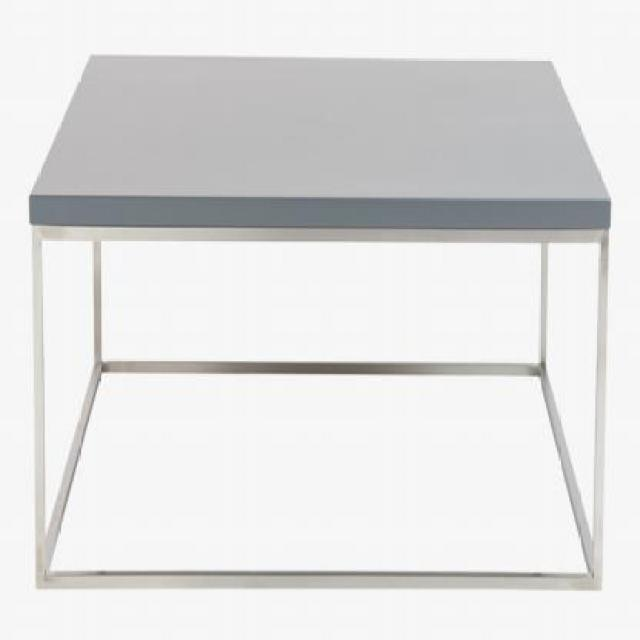table: (26, 48, 612, 594)
